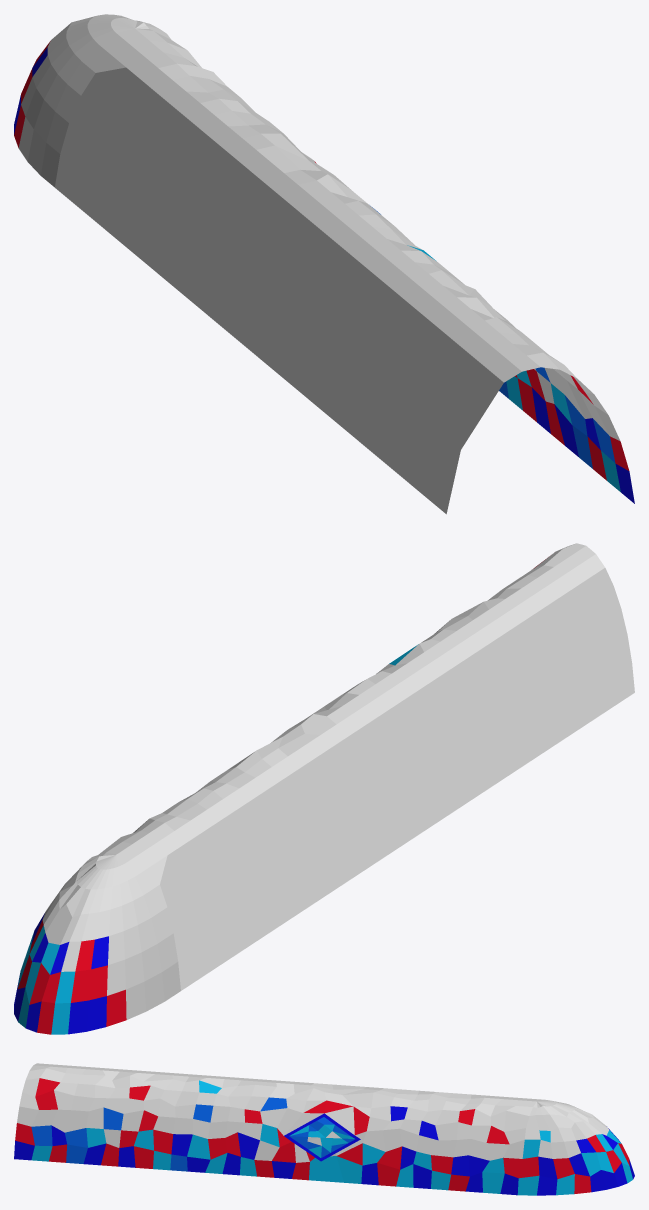
Rendered from ParteAlargadaBajoFinal1.fbx.
The picture shows the model from 3 angles, top to bottom: view 1: azimuth 30°, elevation 25°; view 2: azimuth 150°, elevation 25°; view 3: azimuth 270°, elevation 25°; orthographic projection. The views are drawn at different scales.
Visible parts, largest first — view 1: Sphere.002; view 2: Sphere.002; view 3: Sphere.002.
Boxes of the visible parts, x1,y1,x2,y2 form: Sphere.002: (14, 14, 634, 514); Sphere.002: (14, 543, 634, 1034); Sphere.002: (14, 1063, 634, 1195).
Bounding box in the file's own units: 136 × 99.74 × 609.
